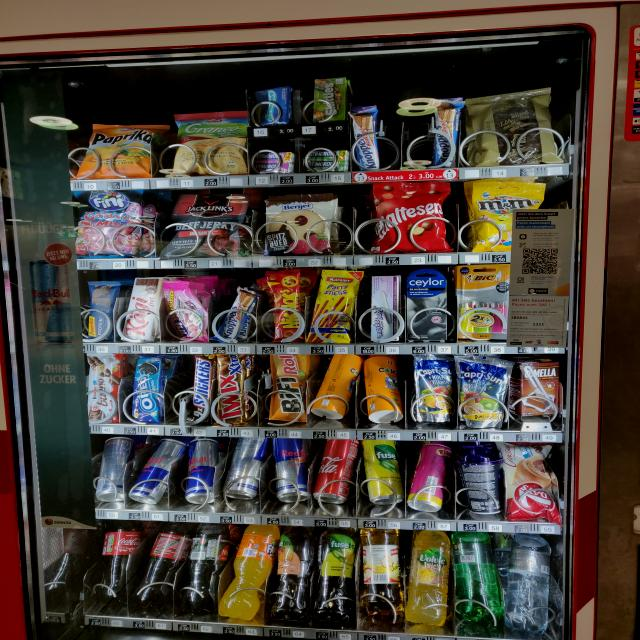7days_croissantschoko_packung_80_1_0000000000003: (502, 448, 556, 521)
airwaves_menthoneucalyptus_riegel_14_1_50173167: (251, 80, 299, 126)
bifi_roll__50__4251097402635: (268, 354, 312, 425)
bueno___43__4008400320328: (87, 354, 128, 424)
c-swiss_dosenabisicetea__33__9120025930135: (310, 353, 362, 422), (362, 354, 407, 424)
caferoyal_classicmacchiato__33__7617014164487: (454, 445, 504, 522)
caprisun_multivitamin__20__4000177605004: (458, 356, 511, 428), (412, 354, 457, 422)
coke__dose_33__54491472: (316, 441, 361, 506)
coke__flasche_50__54491472: (131, 523, 191, 603), (90, 525, 146, 598)
coke_zero_flasche_50__5449000131836: (180, 524, 234, 611)
comella_schokodrink__33__7613100037253: (513, 355, 565, 420)
fanta___50__40822938: (218, 526, 278, 618)
fini_galaxymix_packung_100_1_8410525150364: (77, 187, 142, 257)
fini_jellykisses_packung_80_1_8410525116704: (163, 282, 212, 344)
fuse_lemon__50__5449000235947: (308, 528, 360, 626)
fuse_lemon_dose_33__5449000235947: (360, 440, 403, 508)
fuse_peach__50__5449000236623: (268, 527, 316, 624)
jacklinks_beefjerkyorginal__25__4047751730219: (158, 189, 255, 258)
jlbrichard_gauffrechoko__90__5410495002079: (463, 84, 553, 169)
kagi___50__7610046000259: (121, 278, 161, 342)
knoppers_riegel____4035800488808: (214, 289, 259, 343)
lorenz_nicnacs__40__4018077798818: (264, 270, 308, 342)
malburner_partysticks__40__7610200279682: (310, 268, 358, 344)
maltesers___100__5000159023061: (370, 176, 458, 253)
mnms_gelb__45__40111445: (468, 176, 550, 253)
oreo___66__84100733: (134, 354, 168, 422)
powerbar_proteinplusschoko__55__4029679520028: (82, 279, 122, 342)
ramseier_schorle__50__7610057012456: (358, 527, 404, 617)
redbull___33__90162909: (130, 437, 183, 504), (220, 436, 268, 501), (270, 436, 314, 504), (177, 437, 220, 503), (95, 438, 134, 504)
skittles_sour_riegel_51_1_0000000000004: (308, 75, 351, 122)
snickers___50__5000159461122: (182, 353, 214, 423)
stimorol_spearmint_riegel_14_1_0000000000005: (305, 149, 350, 174)
stimorol_wildcherry_riegel_14_1_57060330: (254, 149, 294, 173)
tiki_himbeer_brause__50__00000000009342: (403, 442, 456, 512)
twix___50__5000159459228: (208, 353, 252, 425)
valser_classic__50__76404160: (447, 534, 502, 628)
valser_still__50__7610335002575: (500, 533, 556, 633)
volvic_pinapple__50__305764335648: (404, 532, 454, 628)
zweifel_graneochilli__100__7610095184009: (167, 108, 250, 177)
zweifel_paprika__90__7610095013002: (78, 122, 158, 181)
